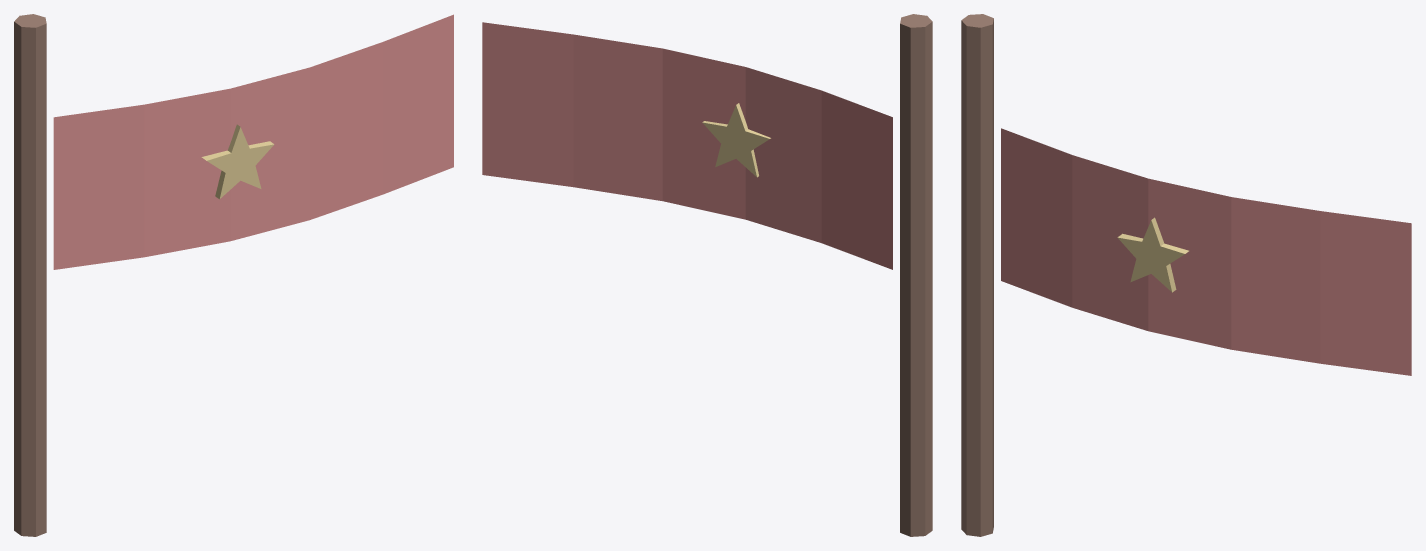
Rendered from bandera_roja.glb.
3 renders of one model, left to right at view 1: azimuth 30°, elevation 25°; view 2: azimuth 150°, elevation 25°; view 3: azimuth 330°, elevation 25°, orthographic.
Visible parts, largest first — view 1: bandera_roja; view 2: bandera_roja; view 3: bandera_roja.
Boxes of the visible parts, left/top/right/bottom form: bandera_roja: left=14, top=14, right=453, bottom=536; bandera_roja: left=482, top=14, right=932, bottom=536; bandera_roja: left=961, top=14, right=1411, bottom=536.
Size of the model in its own units: 1.36 by 1.5 by 0.1414.
